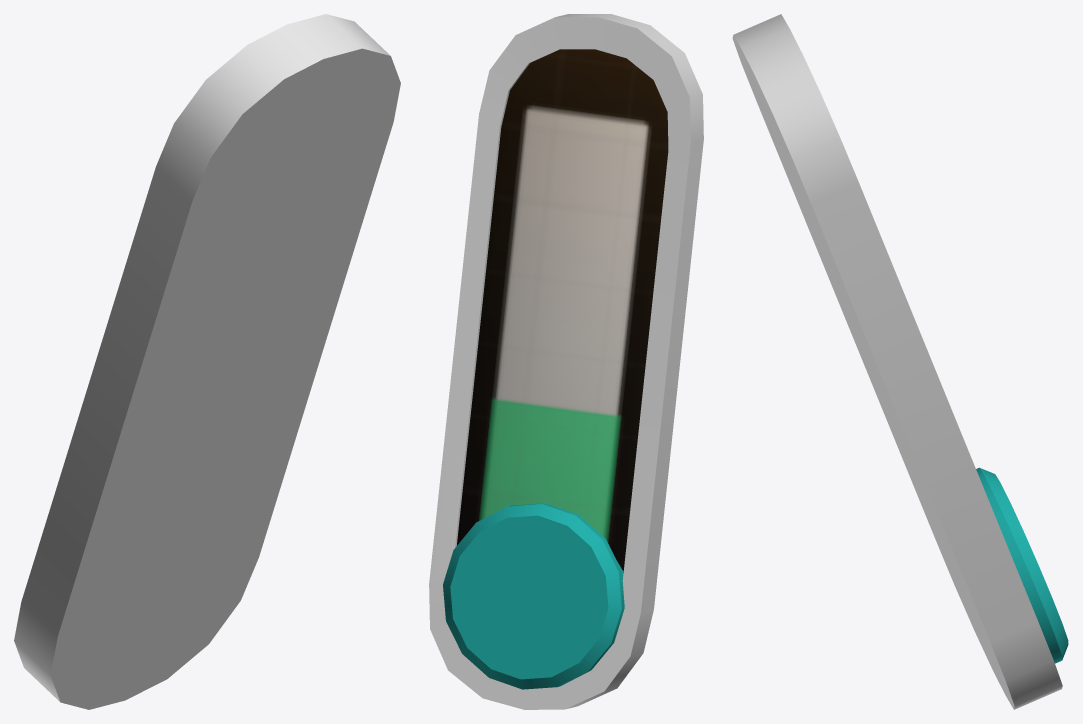
The model's file is SM_Pulse.fbx.
3 views of the same model, side by side, from view 1: azimuth 30°, elevation 25°; view 2: azimuth 150°, elevation 25°; view 3: azimuth 270°, elevation 25° (orthographic). The views are drawn at different scales.
Parts seen in each view (by area): view 1: Pulse; view 2: Pulse, PulseButton; view 3: Pulse, PulseButton.
Boxes of the visible parts, left/top/right/bottom form: Pulse: left=14, top=14, right=400, bottom=709; Pulse: left=429, top=14, right=703, bottom=709; PulseButton: left=443, top=503, right=624, bottom=689; Pulse: left=732, top=14, right=1062, bottom=709; PulseButton: left=976, top=467, right=1068, bottom=663.
Size of the model in its own units: 0.3579 by 0.9257 by 0.4106.
2 materials, 2 textured.
